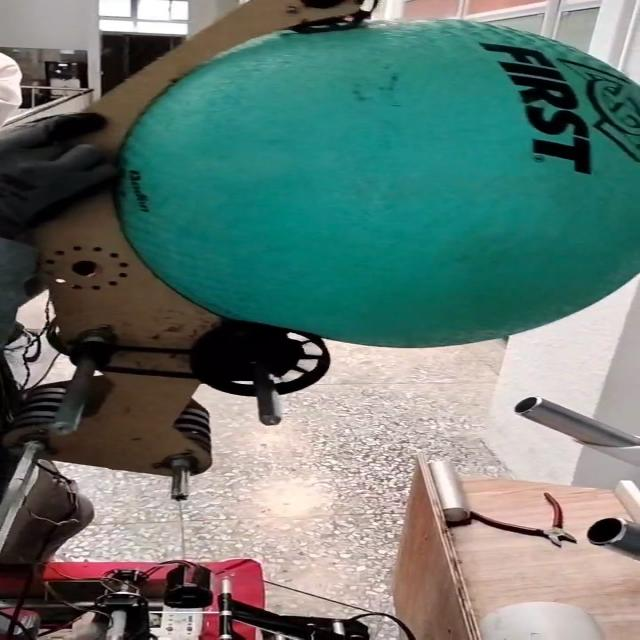ALGAE: (113, 12, 640, 348)
